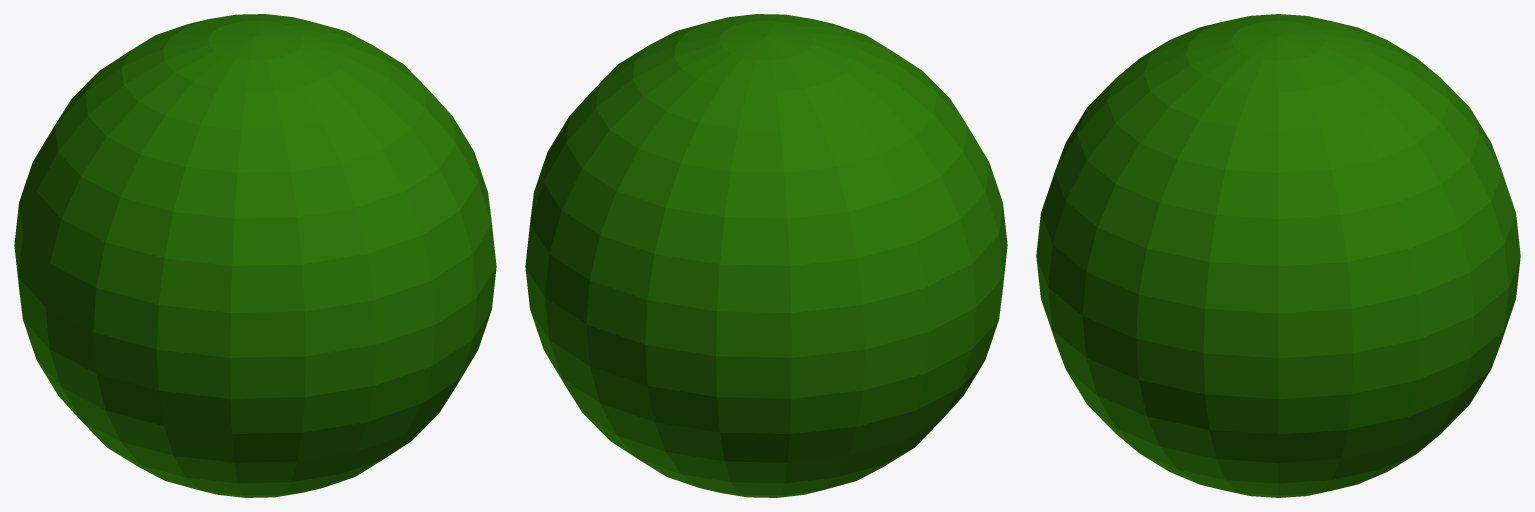
Rendered from SM_pickup_shield.fbx.
3 renders of one model, left to right at view 1: azimuth 30°, elevation 25°; view 2: azimuth 150°, elevation 25°; view 3: azimuth 270°, elevation 25°, orthographic.
Parts seen in each view (by area): view 1: SM_powerup_shield; view 2: SM_powerup_shield; view 3: SM_powerup_shield.
Boxes of the visible parts, box(x1,y1,x2,y2) form: SM_powerup_shield: box(14, 14, 496, 497); SM_powerup_shield: box(525, 14, 1007, 497); SM_powerup_shield: box(1036, 14, 1520, 497).
Size of the model in its own units: 200 by 200 by 200.
